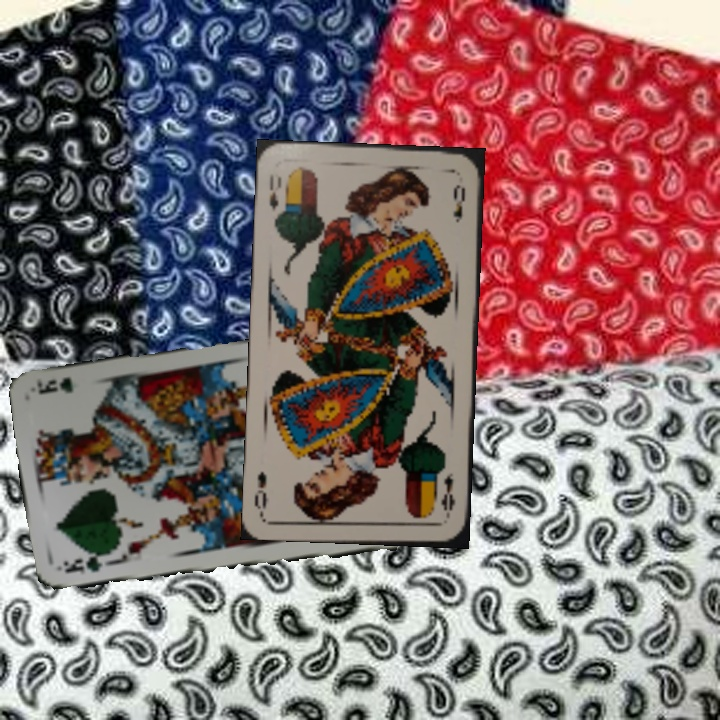EO: (437, 469, 458, 521), (265, 171, 284, 215)
GK: (55, 550, 114, 576)
